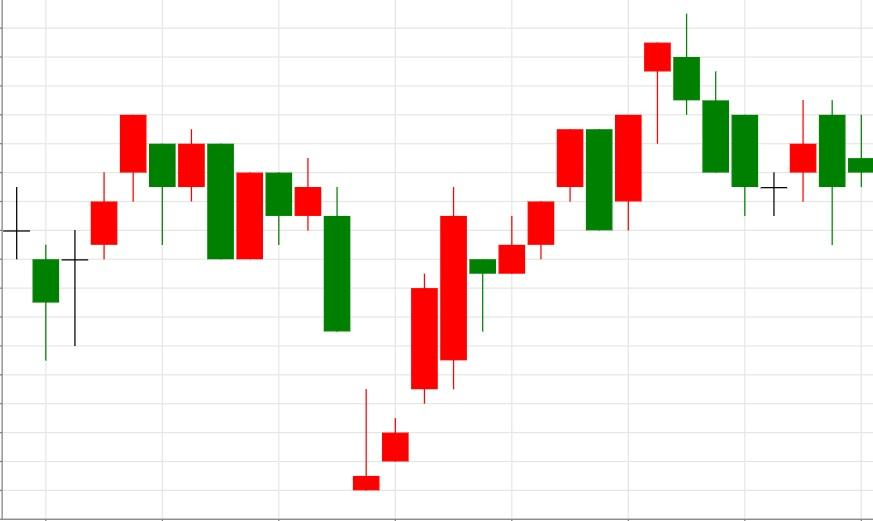hanging_man_fall: (352, 42, 672, 491)
three_white_soldiers_rise: (120, 114, 439, 492)
